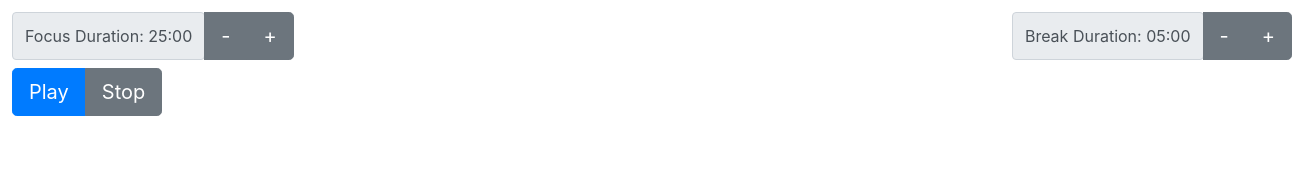
Pomodoro Timer › Break duration › increases by 1 when clicking + button
What coordinates should you click on to do the following:
click the button with test id "increase-break"
I would click on:
 (1268, 36)
Its box is [1245, 12, 1292, 60].
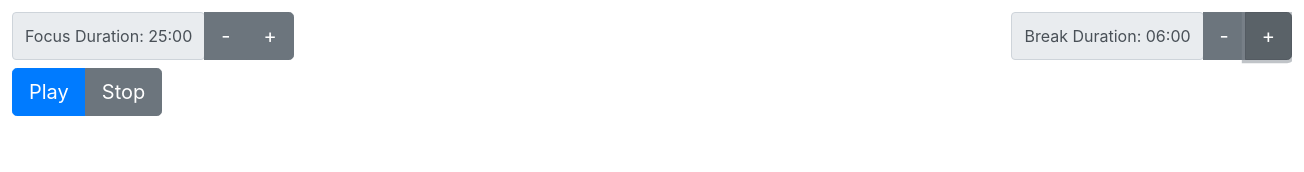
Check: the text with test id "duration-break" reads "Break Duration: 06:00", box [1012, 12, 1204, 60]
What coordinates should you click on to do the following:
click the button with test id "increase-break"
I would click on:
 (1268, 36)
Its box is [1245, 12, 1292, 60].
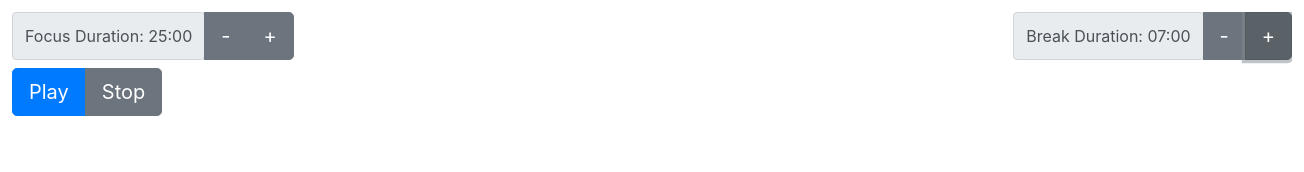
Check: the text with test id "duration-break" reads "Break Duration: 07:00", box [1013, 12, 1204, 60]
